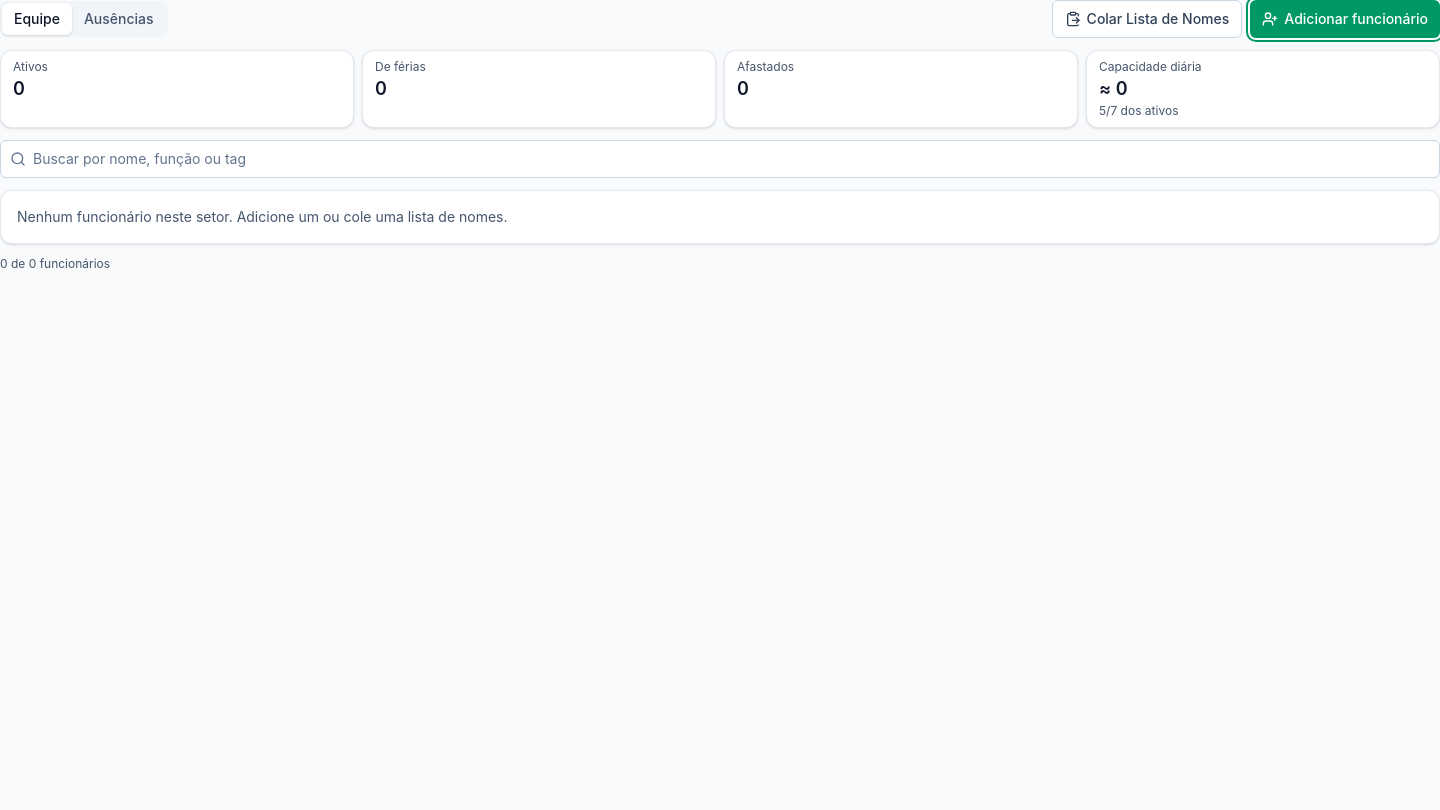
it: TeamPanel › Esc fecha o modal e devolve o foco ao botão que abriu
The image size is (1440, 810).
Click the button "Adicionar funcionário".
click(1345, 19)  # box x1=1250 y1=0 x2=1439 y2=38
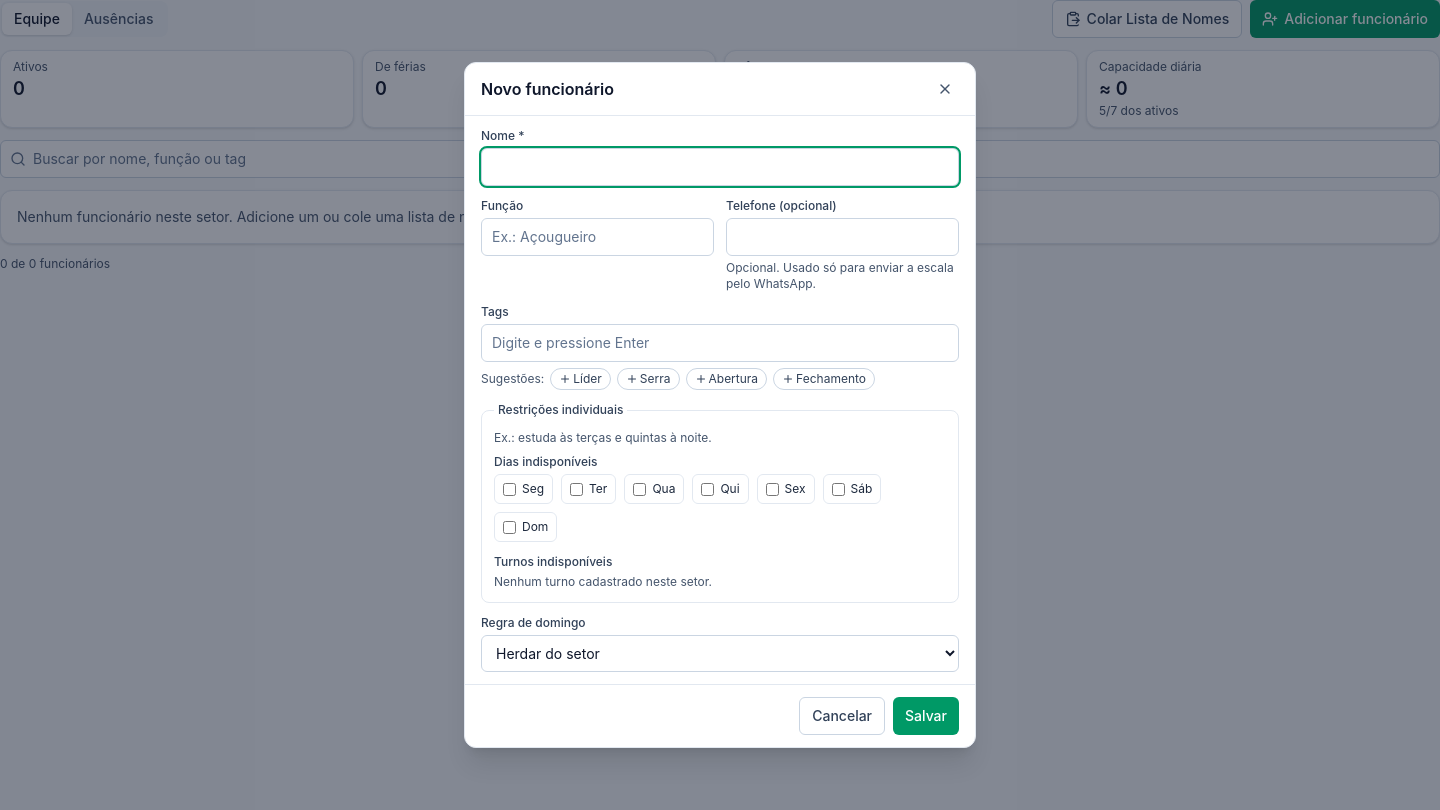
Now the dialog is shown, box x1=464 y1=62 x2=976 y2=748
Press Escape in the field labelled "Nome *", box x1=481 y1=148 x2=959 y2=186
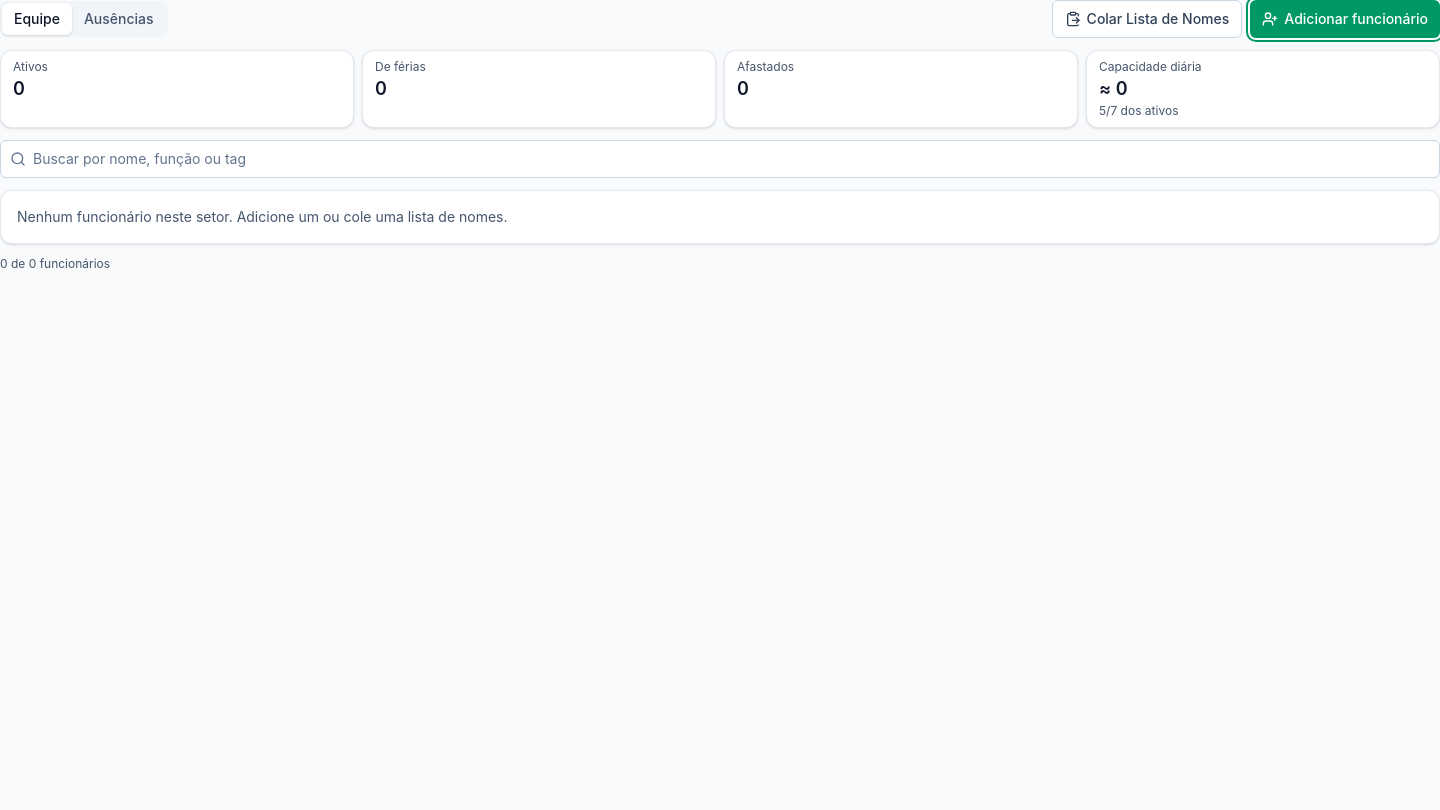
Now the dialog is gone
